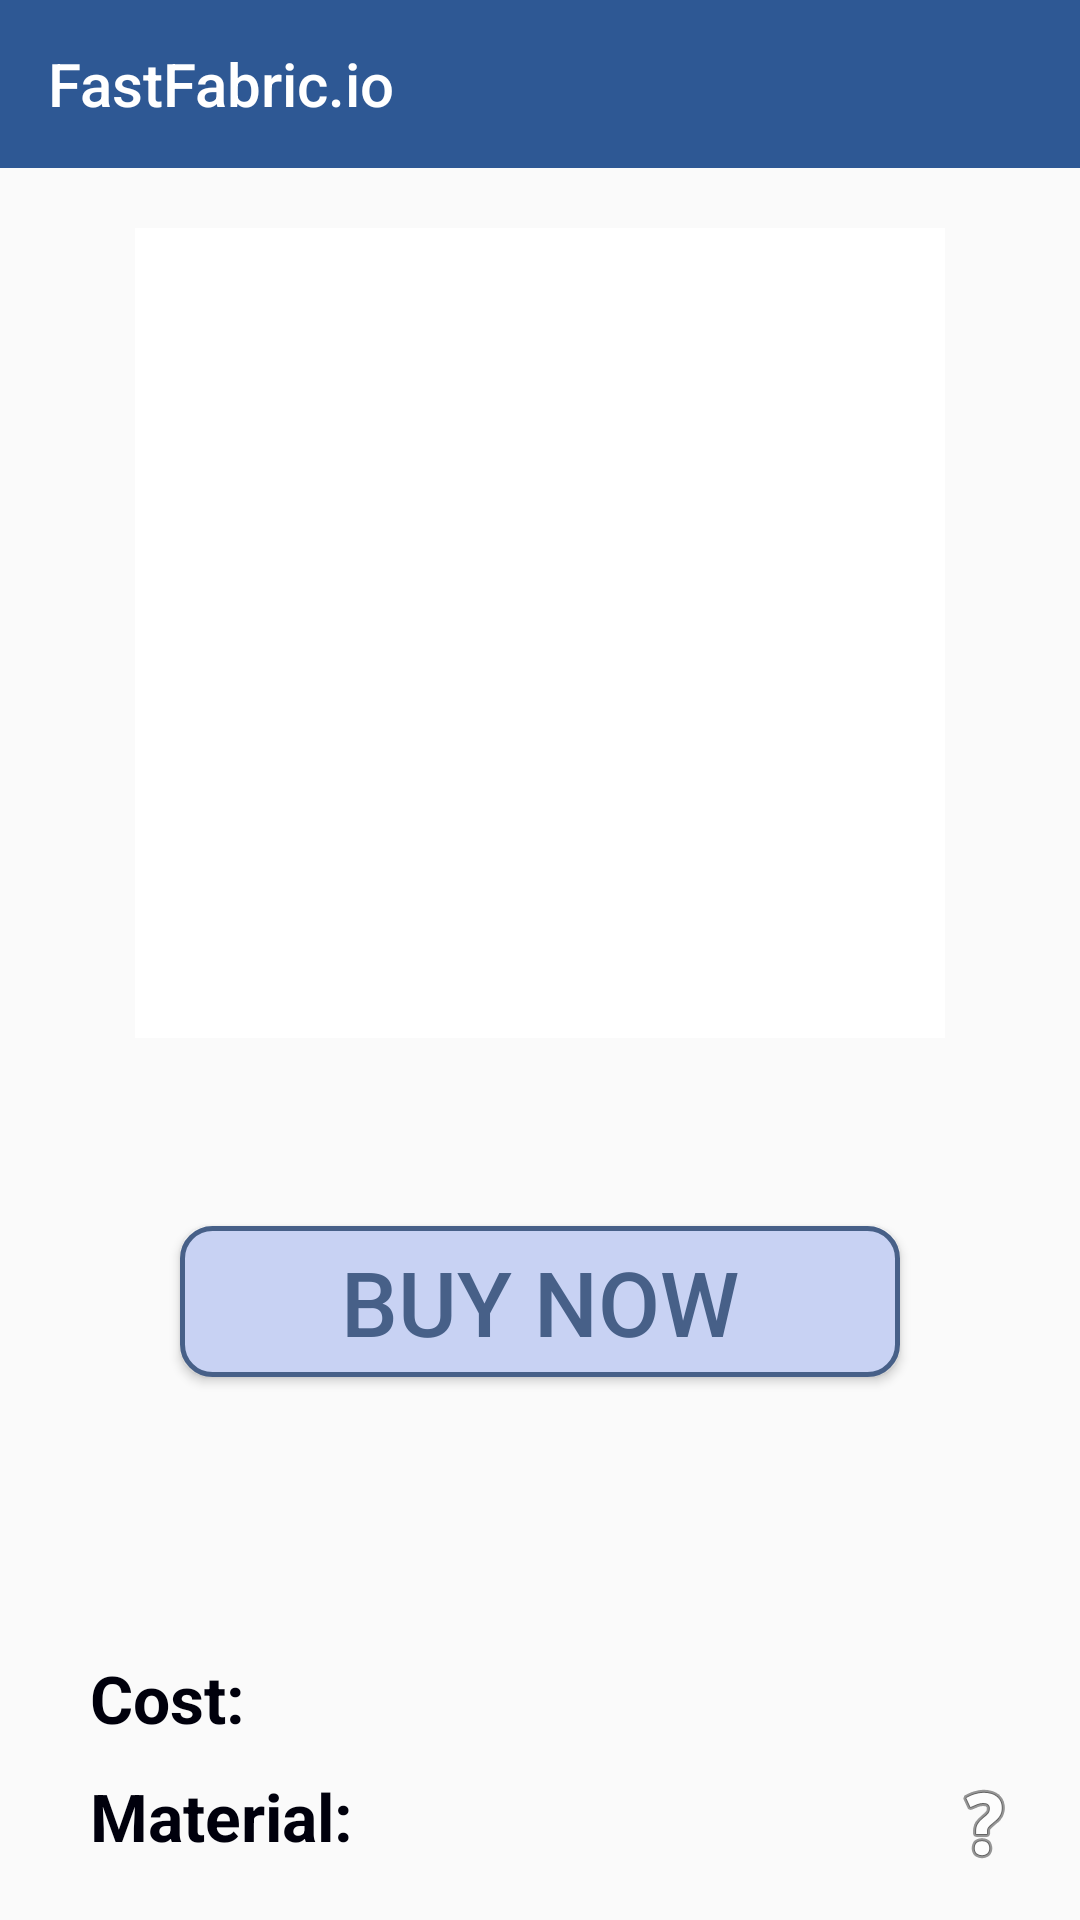

Icons on this 1080px×1920px Android screen, each with the point to tap as (x,y):
help: (984,1824)
